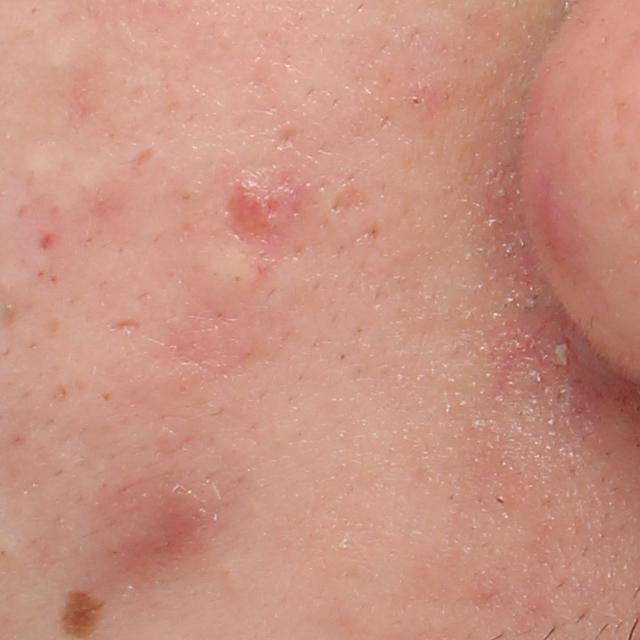atrophic_scar: (327, 184, 369, 226), (126, 145, 156, 185), (273, 121, 302, 152), (105, 317, 143, 332)
hypertrophic_scar: (196, 249, 260, 311), (30, 28, 87, 80)
papule: (224, 174, 293, 244)
pustule: (547, 341, 571, 372)
